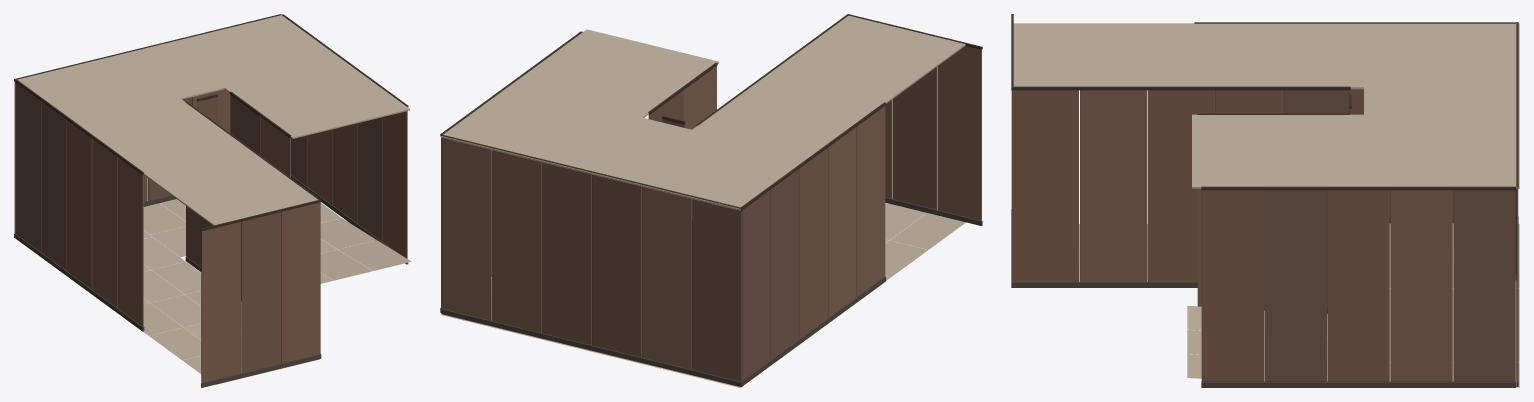
The model's file is vestibule.glb.
3 views of the same model, side by side, from view 1: azimuth 30°, elevation 25°; view 2: azimuth 150°, elevation 25°; view 3: azimuth 270°, elevation 25° (orthographic). The views are drawn at different scales.
Parts seen in each view (by area): view 1: Surface; view 2: Surface; view 3: Surface.
Boxes of the visible parts, x1=… form: Surface: x1=14, y1=14, x2=411, y2=387; Surface: x1=440, y1=14, x2=982, y2=387; Surface: x1=1011, y1=14, x2=1519, y2=387.
Bounding box in the file's own units: 5.81 × 3.14 × 7.19.
